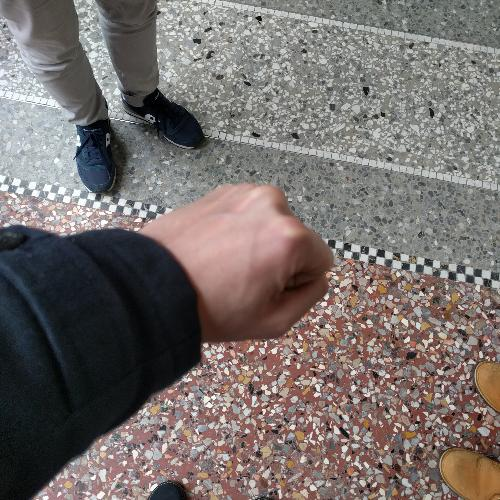rock: (136, 174, 344, 353)
